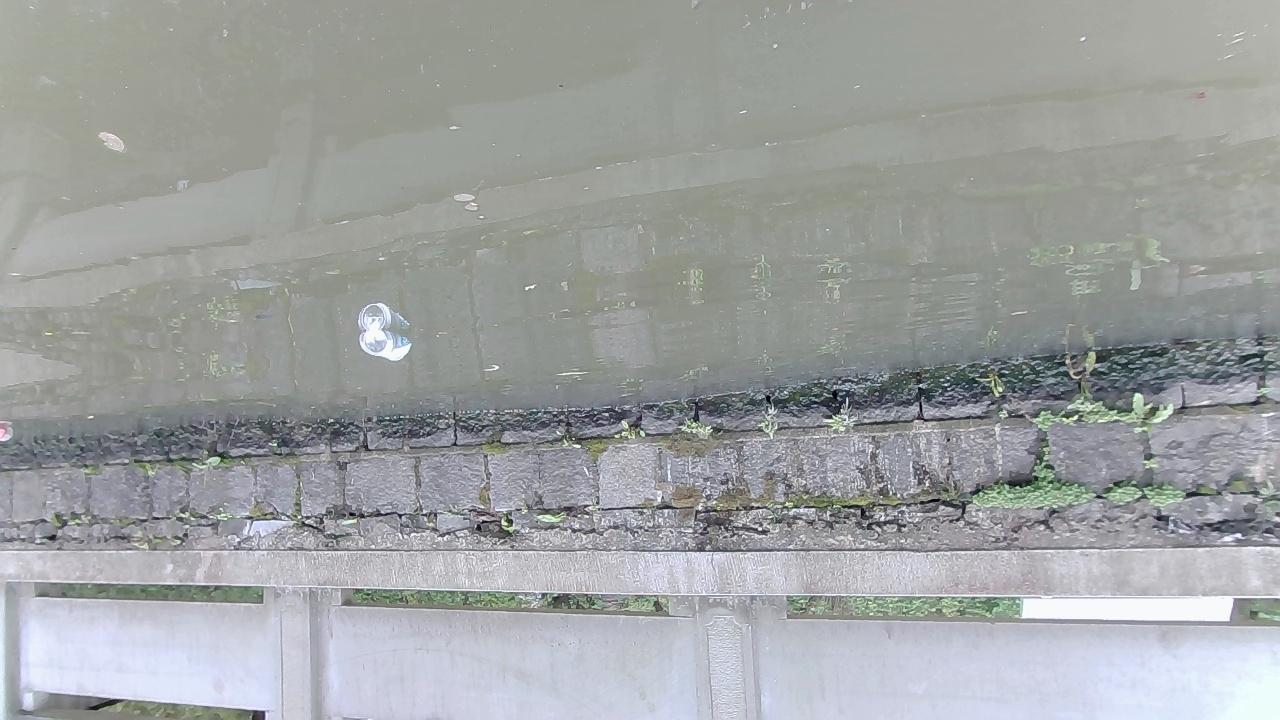Metal: (359, 327, 413, 362)
